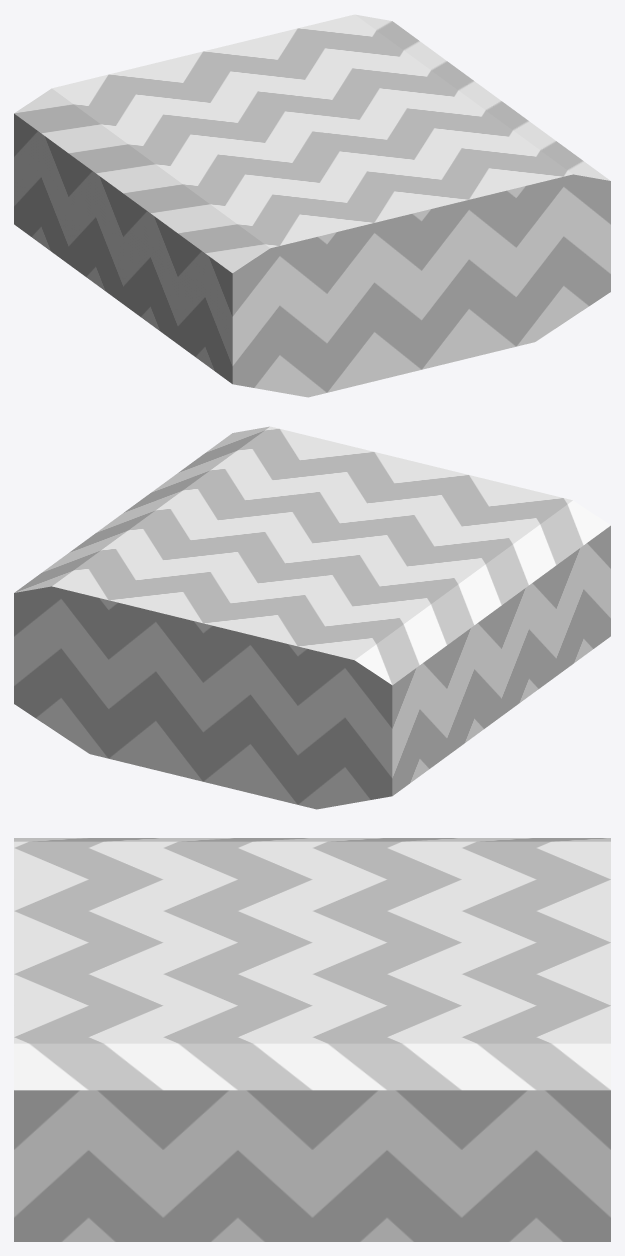
File: Ramenv2.obj
The picture shows the model from 3 angles, top to bottom: view 1: azimuth 30°, elevation 25°; view 2: azimuth 150°, elevation 25°; view 3: azimuth 270°, elevation 25°; orthographic projection. The views are drawn at different scales.
Visible parts, largest first — view 1: mergedBlocks; view 2: mergedBlocks; view 3: mergedBlocks.
Part boxes in pixels (x1=…): mergedBlocks: x1=14, y1=14, x2=610, y2=397; mergedBlocks: x1=14, y1=426, x2=610, y2=809; mergedBlocks: x1=14, y1=838, x2=610, y2=1241.
Size of the model in its own units: 1 by 0.4 by 1.
